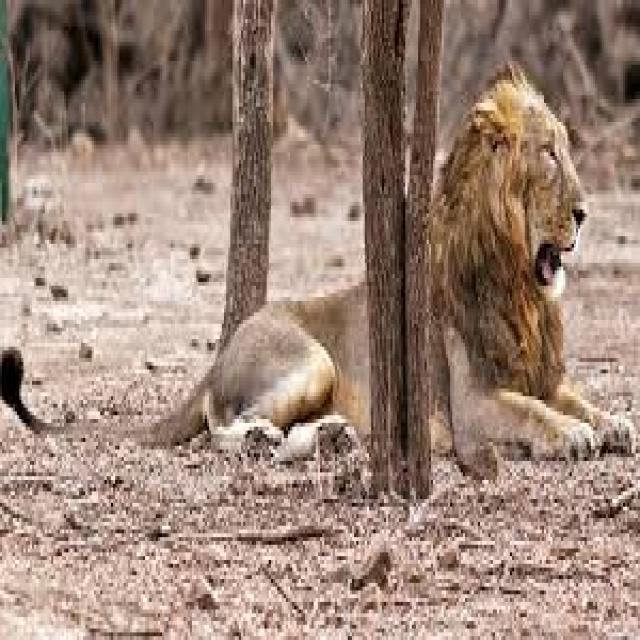Lion: (427, 61, 634, 472)
